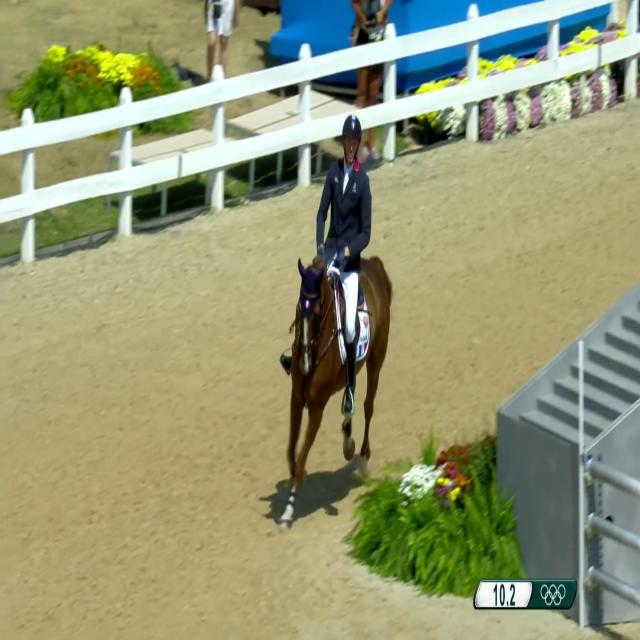Horse Rider: (308, 76, 372, 354)
Horse Running: (275, 236, 400, 522)
